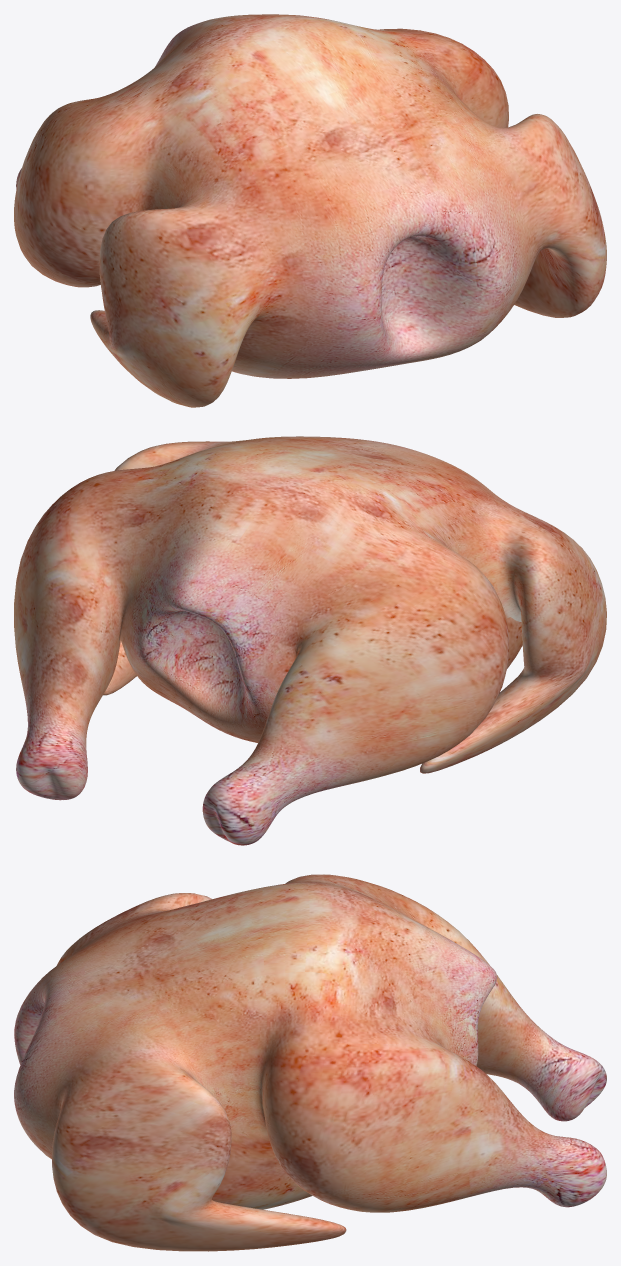
Rendered from Chiken.FBX.
3 views of the same model, one above another, from view 1: azimuth 30°, elevation 25°; view 2: azimuth 150°, elevation 25°; view 3: azimuth 270°, elevation 25° (orthographic). The views are drawn at different scales.
Parts seen in each view (by area): view 1: Chicken; view 2: Chicken; view 3: Chicken.
Boxes of the visible parts, bbox=[...] form: Chicken: bbox=[14, 14, 606, 407]; Chicken: bbox=[14, 436, 606, 845]; Chicken: bbox=[14, 874, 606, 1251].
Bounding box in the file's own units: 45.28 × 24.78 × 50.59.
